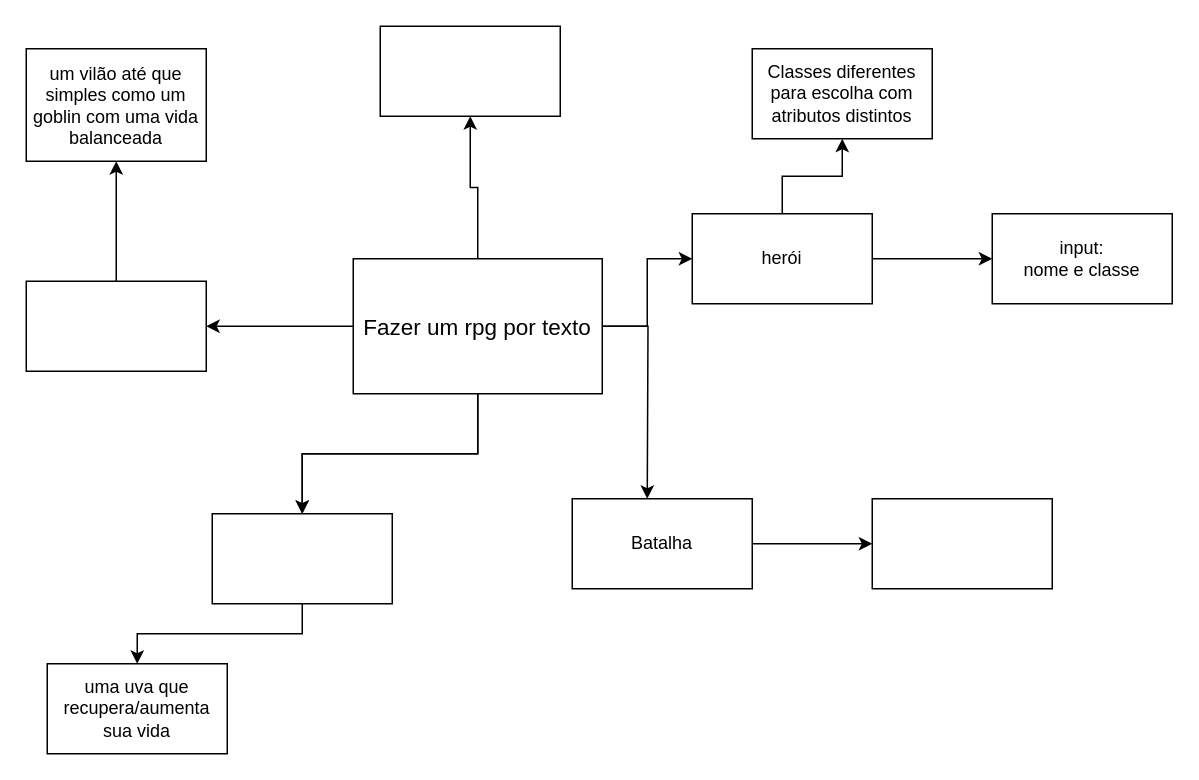
Image size: 1199x780. Some labels were removed from this diagram. The centre of each missing label's shape, as x and y in pixels:
Escolhas: fugir batalhar ou defender: the point at 961,543
itens: the point at 301,558
loop da história: the point at 469,70
vilão/inimigos: the point at 115,325
